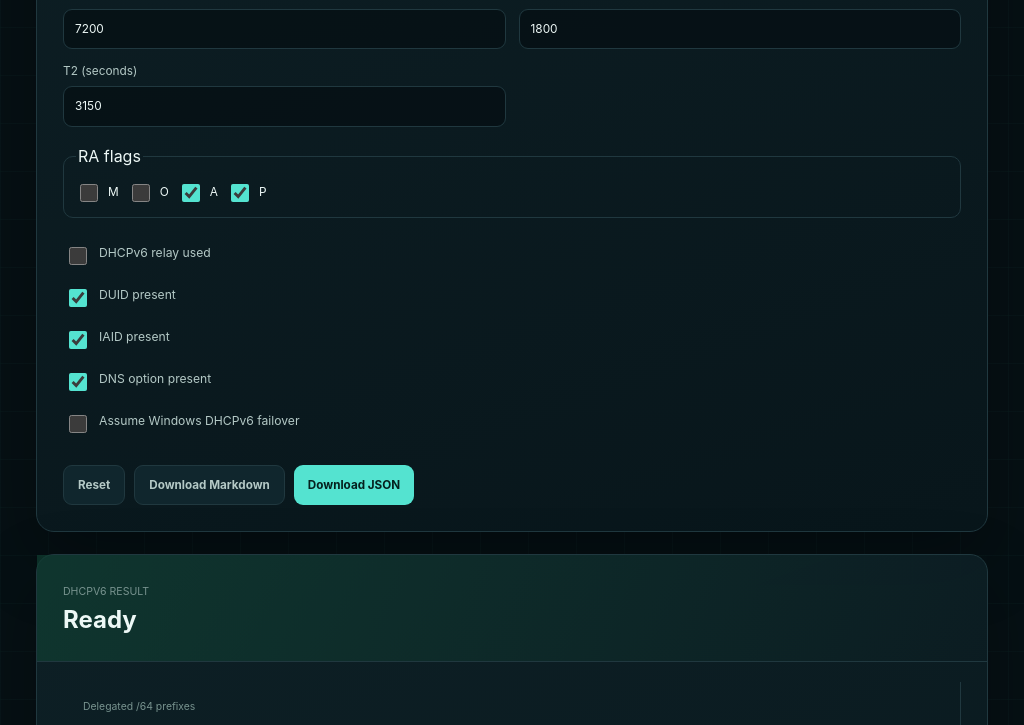
Test: DHCPulse Workbench › shows the DHCPv6 DNS delivery finding in both languages
(page scrolled)
What coordinates should you click on to do the following:
click the checkbox labelled "DNS option present"
I would click on:
 (78, 382)
Its box is [69, 372, 87, 390].
(page scrolled)
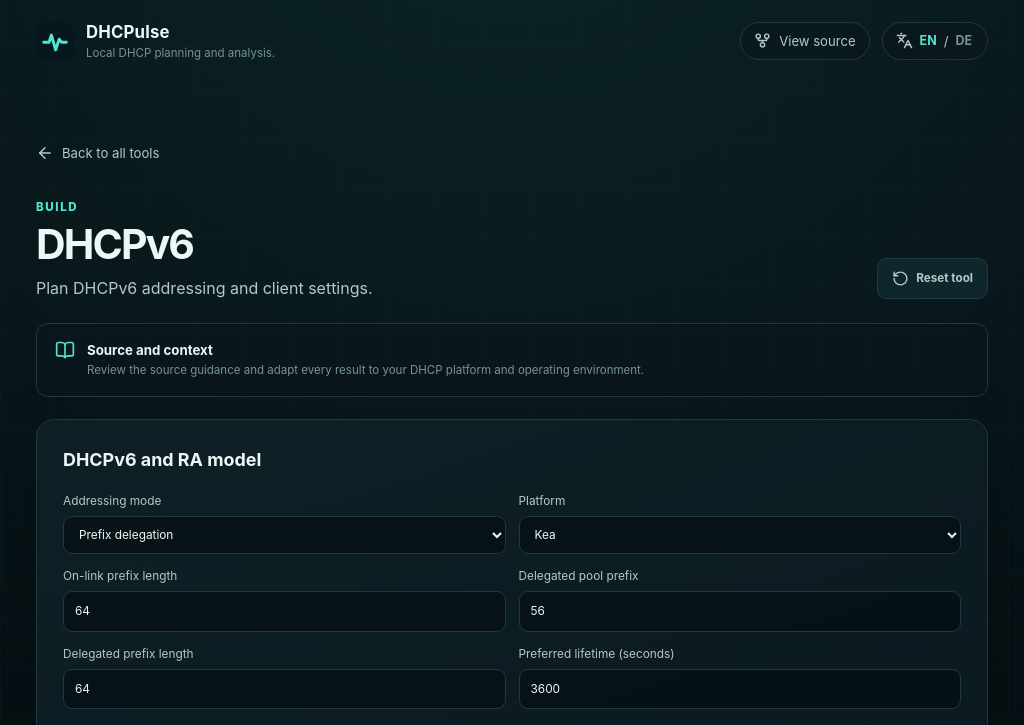
What coordinates should you click on to do the following:
click the button with aria-label "Deutsch"
I would click on:
 (964, 41)
Its box is [953, 31, 974, 51].
(page scrolled)
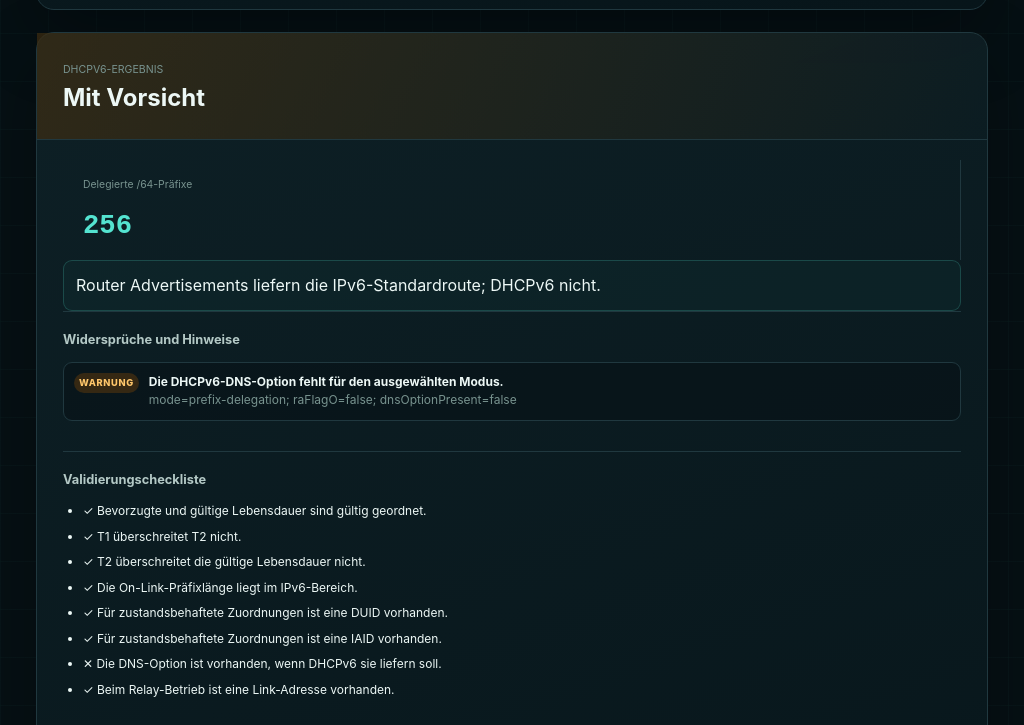
Expected: the text "Die DHCPv6-DNS-Option fehlt für den ausgewählten Modus." is shown, [149, 374, 504, 389]
